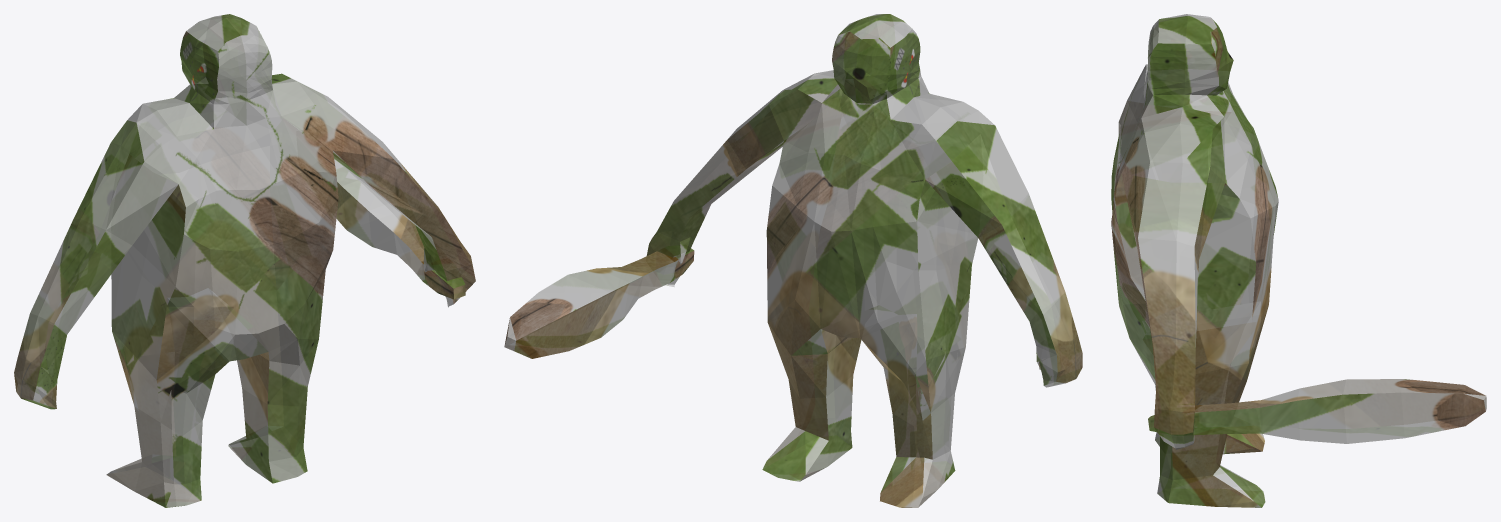
Rendered from Enemigo22.obj.
The picture shows the model from 3 angles, left to right: view 1: azimuth 30°, elevation 25°; view 2: azimuth 150°, elevation 25°; view 3: azimuth 270°, elevation 25°; orthographic projection. The views are drawn at different scales.
Parts seen in each view (by area): view 1: Cube; view 2: Cube; view 3: Cube.
Part boxes in pixels (bbox=[...]): Cube: bbox=[14, 14, 475, 507]; Cube: bbox=[504, 14, 1082, 507]; Cube: bbox=[1111, 14, 1486, 507].
Bounding box in the file's own units: 2.76 × 2.71 × 2.01.
1 material, 1 textured.
